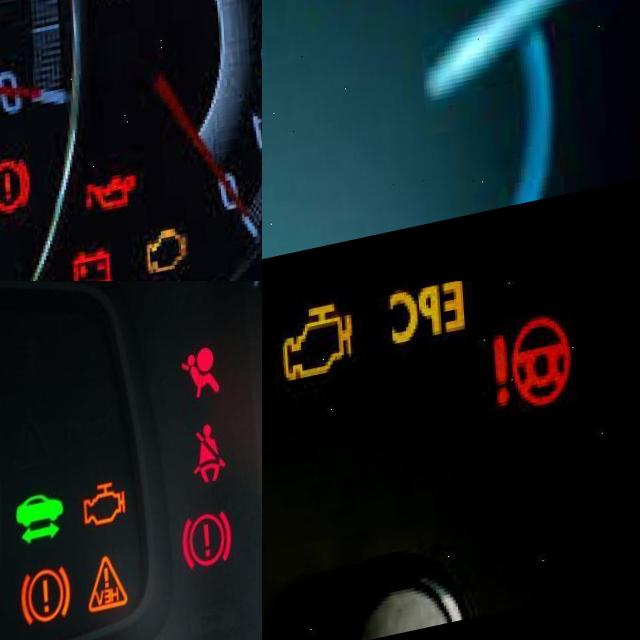Electronic Power Steering Warning: (482, 333, 574, 442)
Seat Belt: (188, 436, 224, 502)
